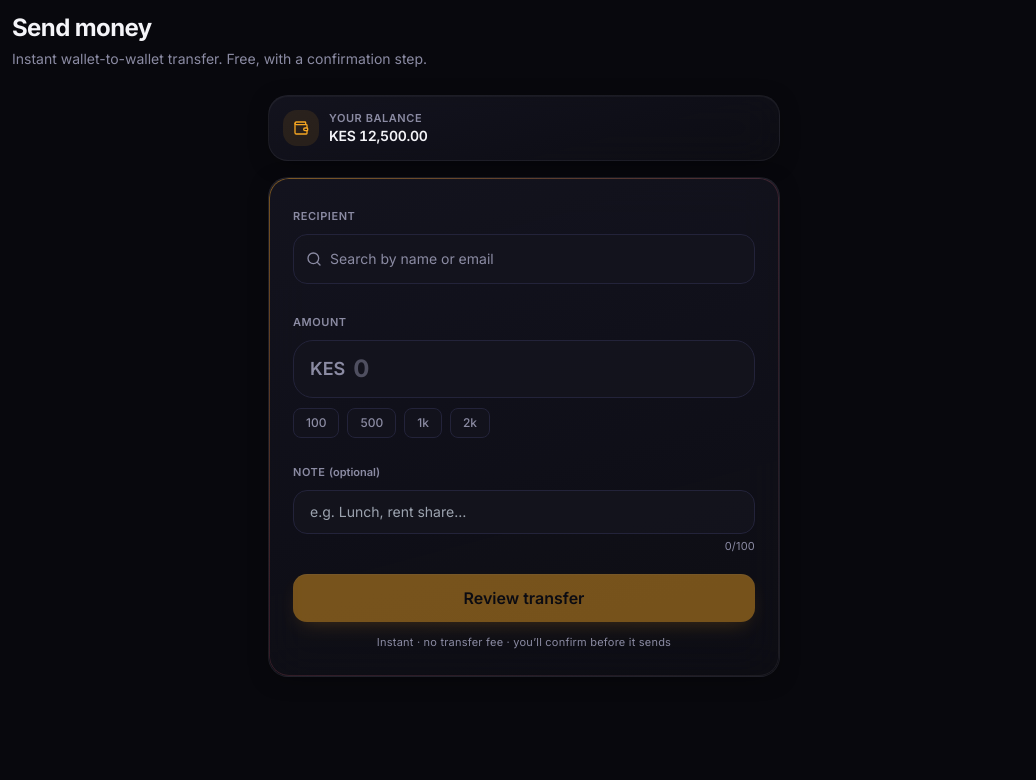
Scenario: Send Money › fills the chip when a recipient is selected
The width and height of the screenshot is (1036, 780).
In the field labelled "Recipient": x=536, y=259 [330,235,742,283], type "grace"
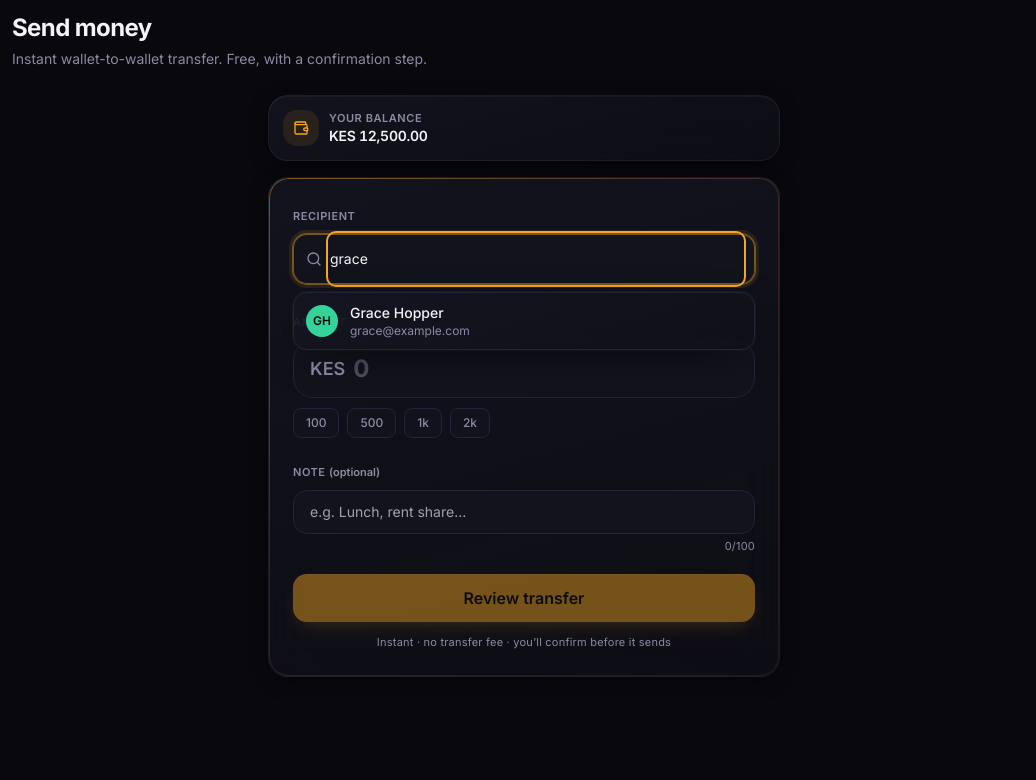
Click the text "Grace Hopper": x=397, y=312 [350,304,444,321]
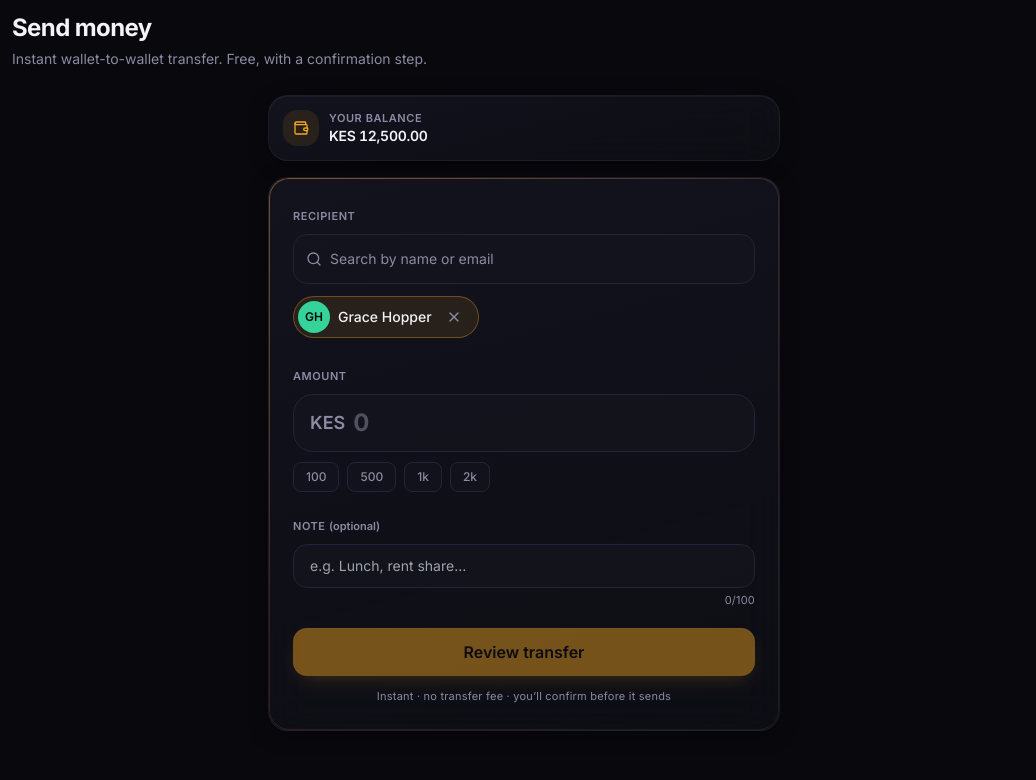
Check: the button named "remove recipient" is shown, box [440,303,468,331]
